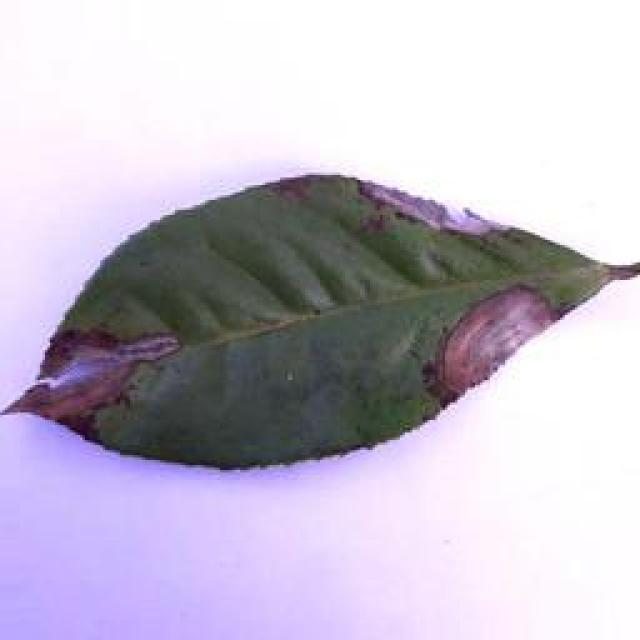Gray Blight: (2, 166, 640, 474)
